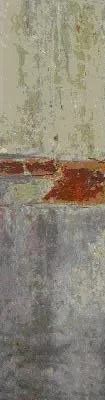Corrosion: (41, 159, 105, 207), (1, 159, 59, 176)
